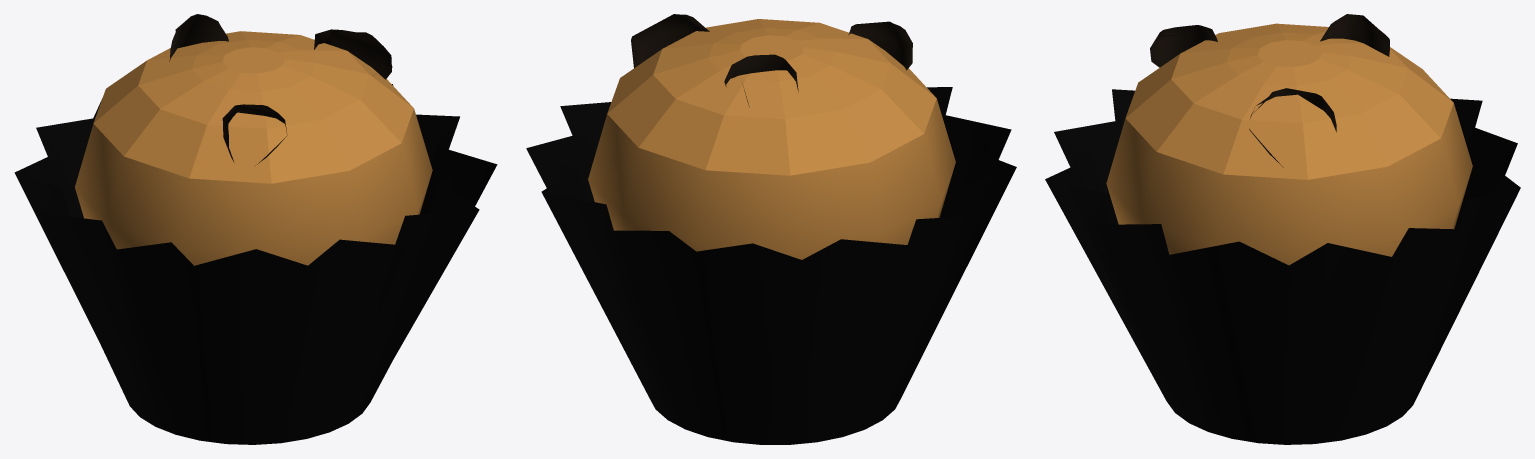
File: Muffin_2.fbx
3 renders of one model, left to right at view 1: azimuth 30°, elevation 25°; view 2: azimuth 150°, elevation 25°; view 3: azimuth 270°, elevation 25°, orthographic. The views are drawn at different scales.
Visible parts, largest first — view 1: Cylinder024; view 2: Cylinder024; view 3: Cylinder024.
Part boxes in pixels (x1,y1,x2,y2): Cylinder024: [14, 14, 497, 444]; Cylinder024: [526, 14, 1016, 444]; Cylinder024: [1045, 14, 1520, 444].
Bounding box in the file's own units: 18.46 × 15.12 × 17.88.
